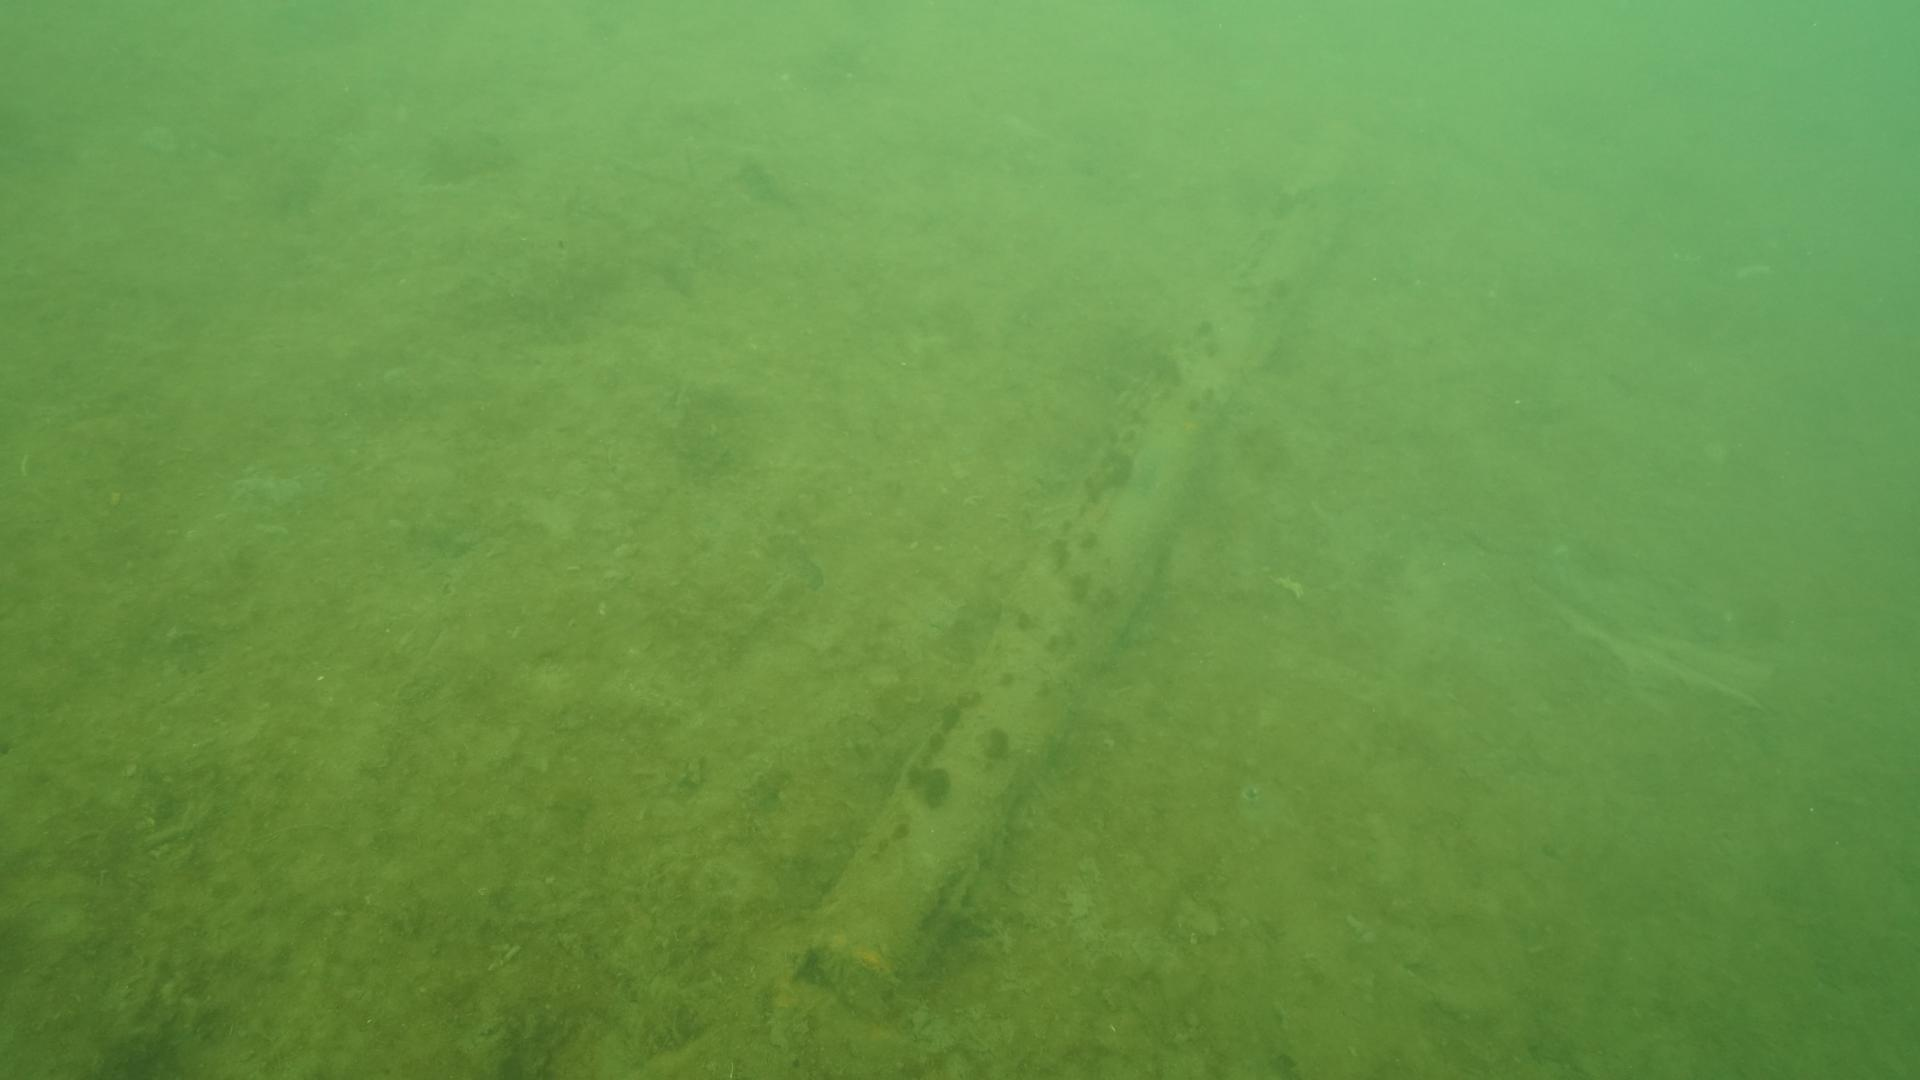wood: (790, 249, 1284, 1014)
